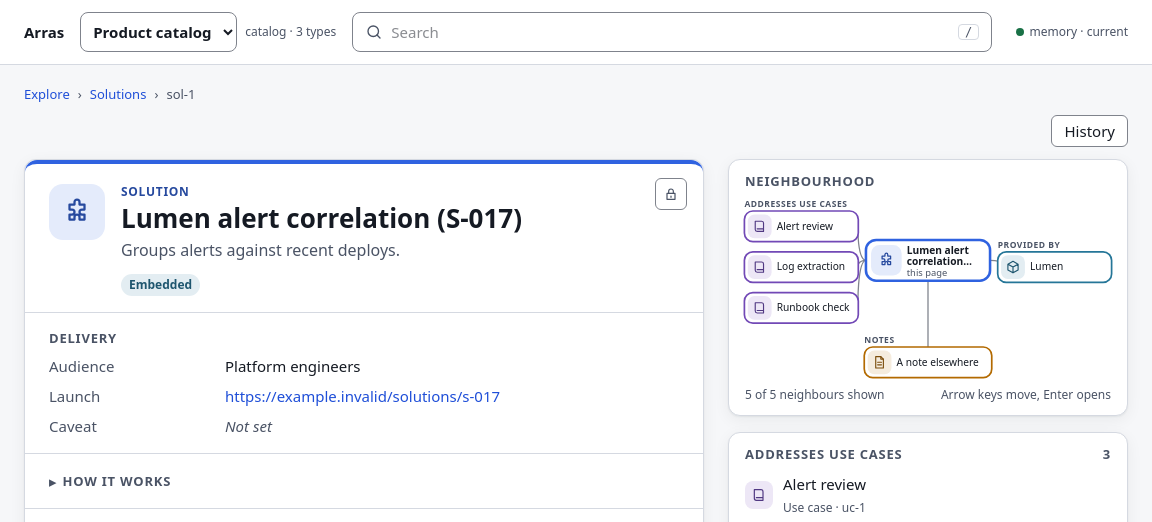
Test: an entity's history panel (FR-69) › its own back control returns to the entity without leaving a loop behind
What coordinates should you click on to do the following:
click the button "History"
I would click on:
 (1090, 131)
Its box is [1052,115,1128,147].
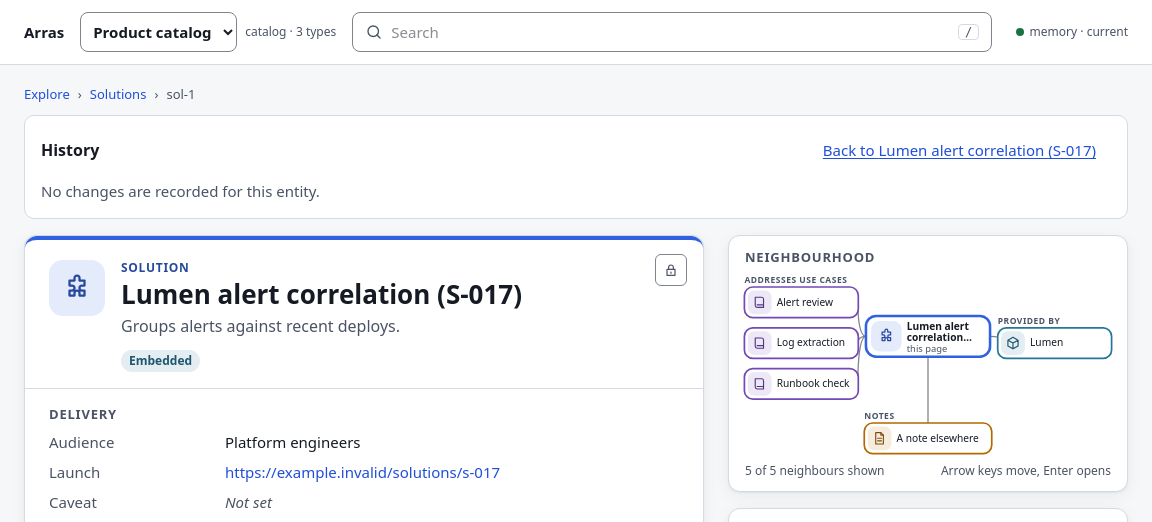
Result: the element with test id "gb-history" is shown at [24,115,1128,219]
What coordinates should you click on to do the following:
click the button "Back to Lumen alert correlation (S-017)"
I would click on:
 (959, 150)
Its box is [808,132,1111,168].
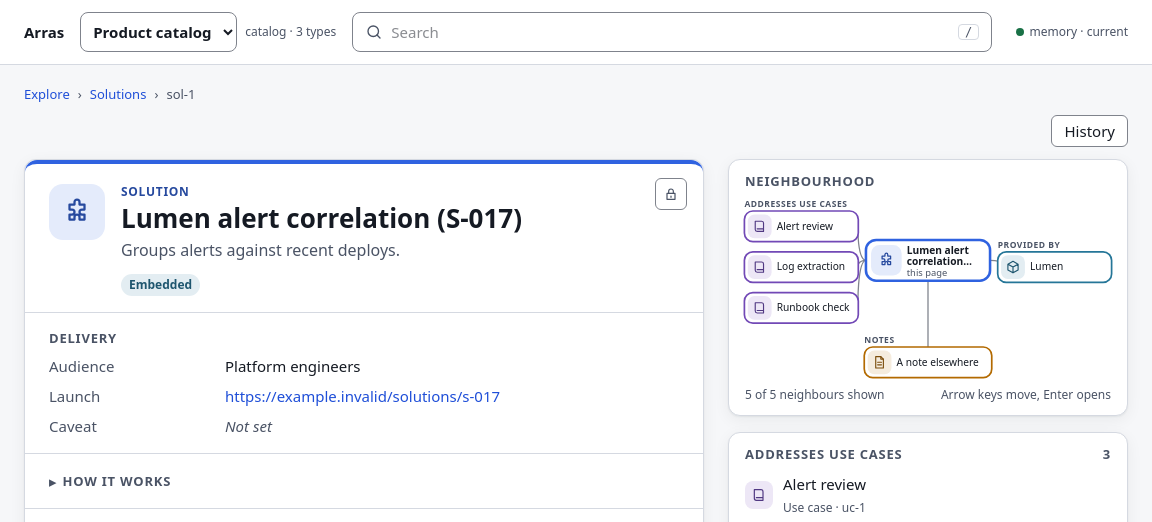
Result: the element with test id "gb-history" is gone
